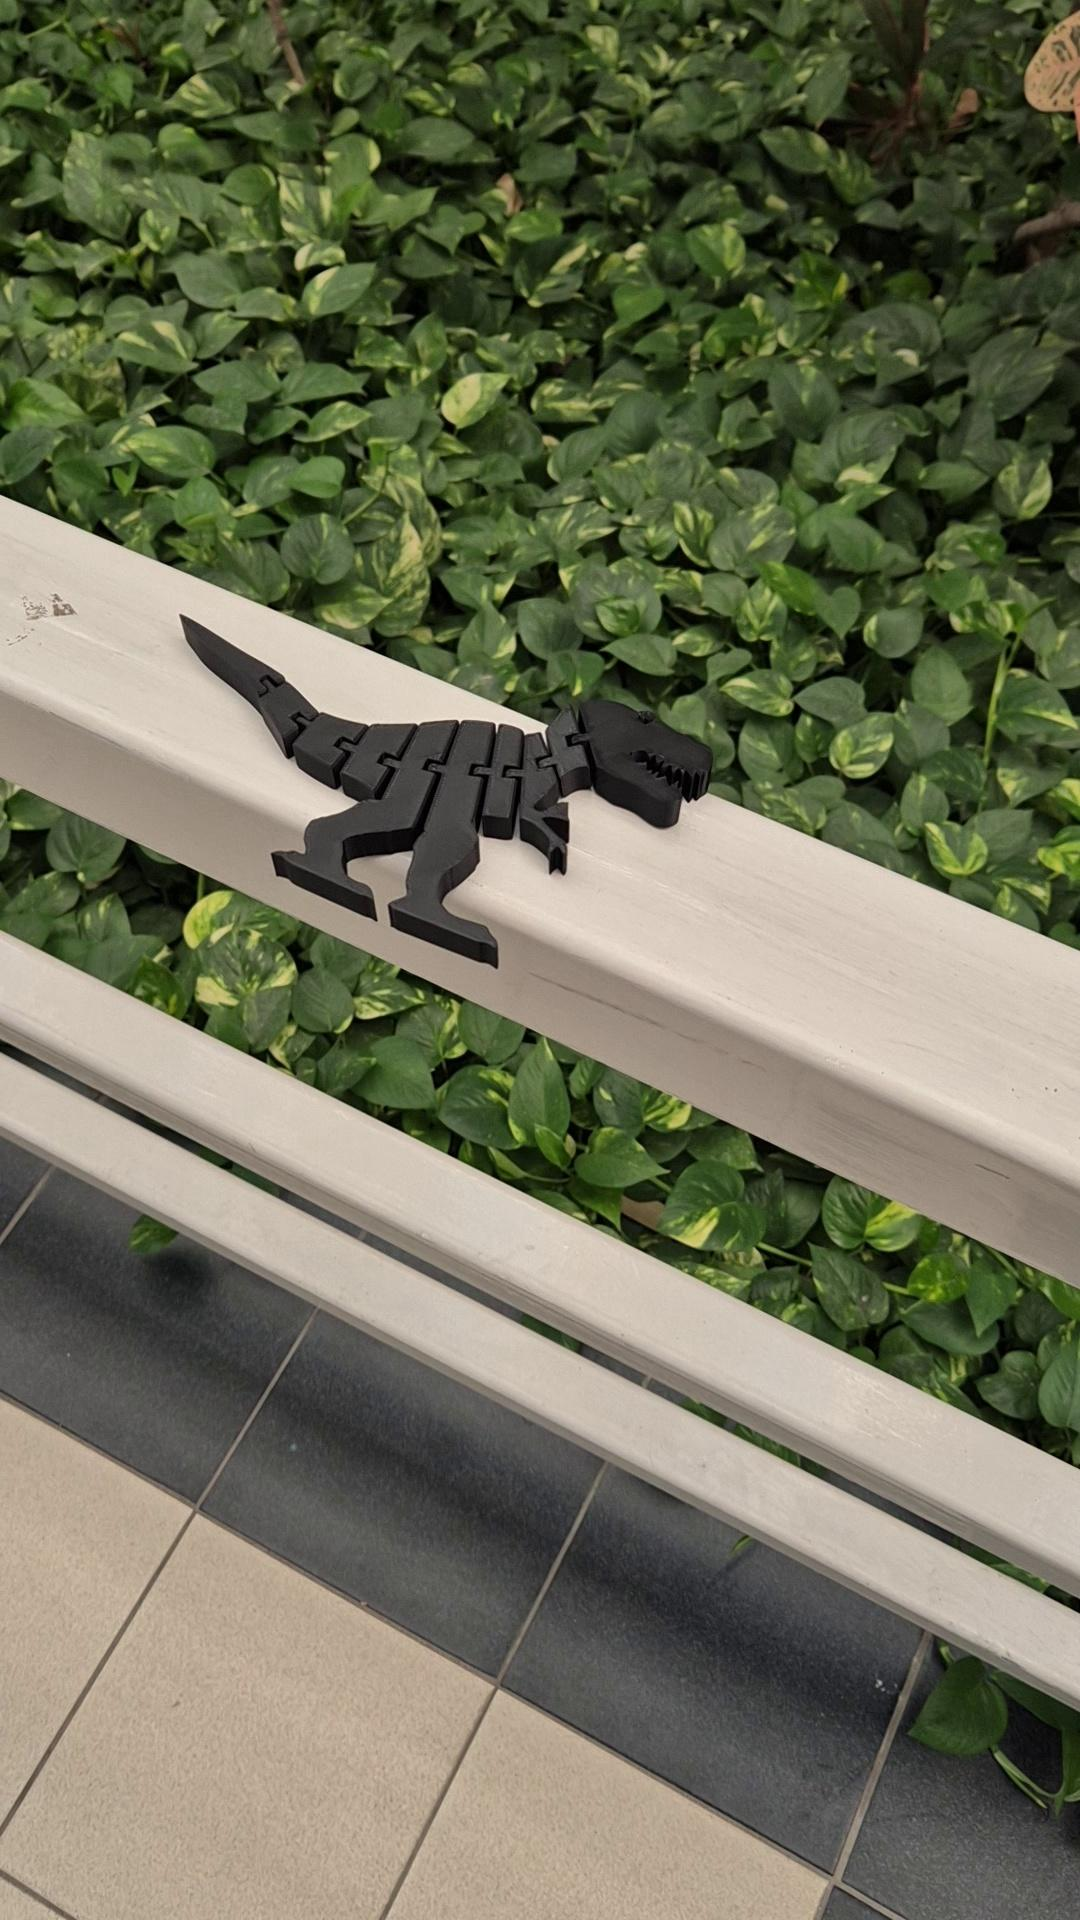dinosaur: (174, 609, 716, 972)
